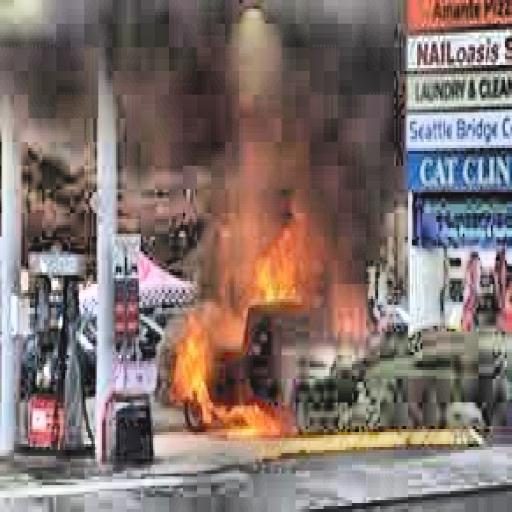fire: (169, 231, 318, 441)
